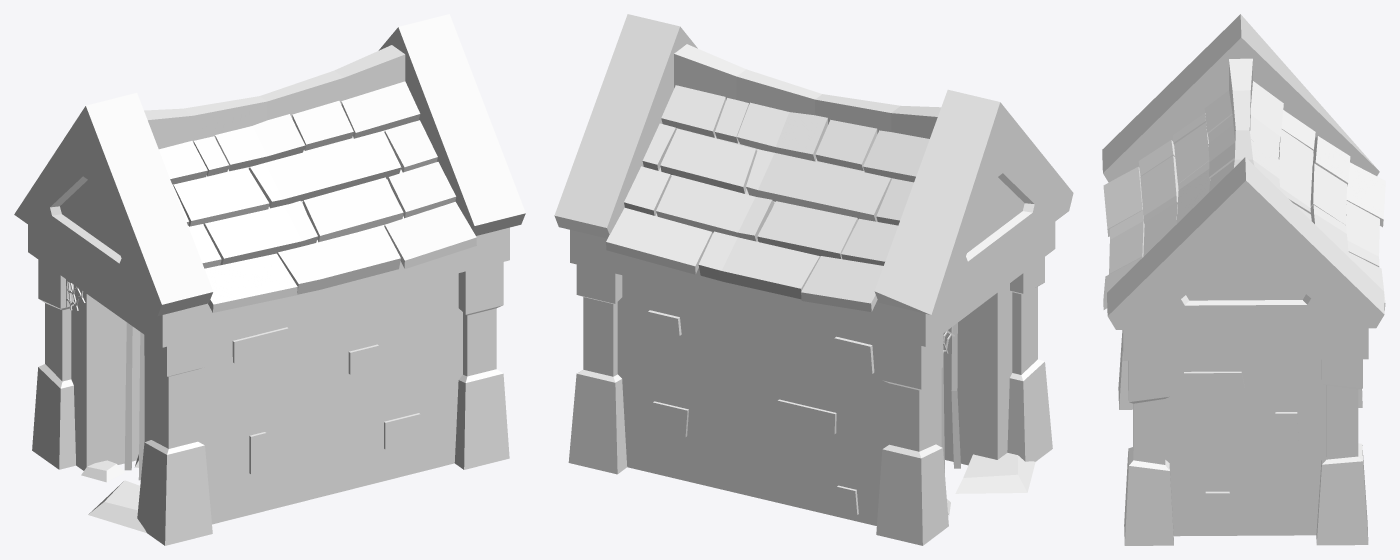
The model's file is small_house.fbx.
The picture shows the model from 3 angles, left to right: view 1: azimuth 30°, elevation 25°; view 2: azimuth 150°, elevation 25°; view 3: azimuth 270°, elevation 25°; orthographic projection. The views are drawn at different scales.
Visible parts, largest first — view 1: Small Crypt.002; view 2: Small Crypt.002; view 3: Small Crypt.002.
Boxes of the visible parts, x1=… form: Small Crypt.002: x1=14, y1=14, x2=525, y2=545; Small Crypt.002: x1=554, y1=14, x2=1073, y2=545; Small Crypt.002: x1=1102, y1=14, x2=1385, y2=545.
Bounding box in the file's own units: 92.06 × 91.31 × 63.81.
